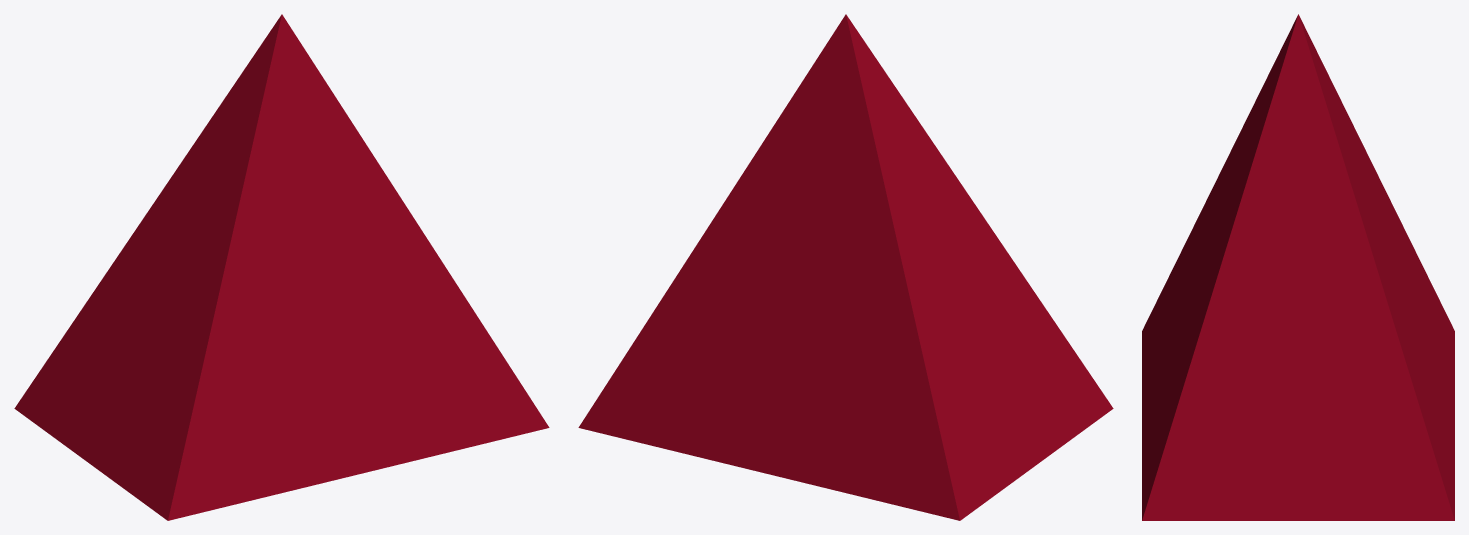
3 renders of one model, left to right at view 1: azimuth 30°, elevation 25°; view 2: azimuth 150°, elevation 25°; view 3: azimuth 270°, elevation 25°, orthographic.
Parts seen in each view (by area): view 1: node_id5; view 2: node_id5; view 3: node_id5.
Boxes of the visible parts, x1=… form: node_id5: x1=14, y1=14, x2=549, y2=520; node_id5: x1=578, y1=14, x2=1113, y2=520; node_id5: x1=1142, y1=14, x2=1454, y2=520.
Size of the model in its own units: 1.06 by 1.07 by 0.7362.
Materials: 1 (1 with a texture image).
